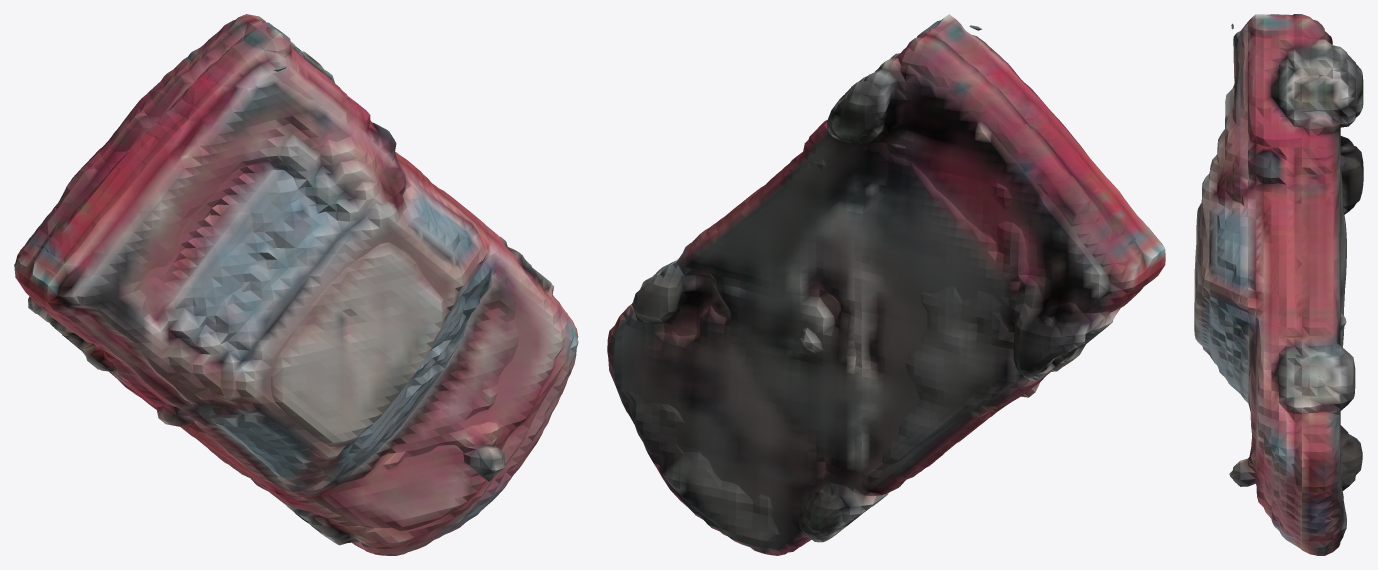
3 renders of one model, left to right at view 1: azimuth 30°, elevation 25°; view 2: azimuth 150°, elevation 25°; view 3: azimuth 270°, elevation 25°, orthographic. The views are drawn at different scales.
Parts seen in each view (by area): view 1: world; view 2: world; view 3: world.
Boxes of the visible parts, bbox=[...] form: world: bbox=[14, 14, 578, 555]; world: bbox=[607, 14, 1165, 555]; world: bbox=[1194, 14, 1363, 555].
Bounding box in the file's own units: 0.922 × 0.9236 × 0.3008.
